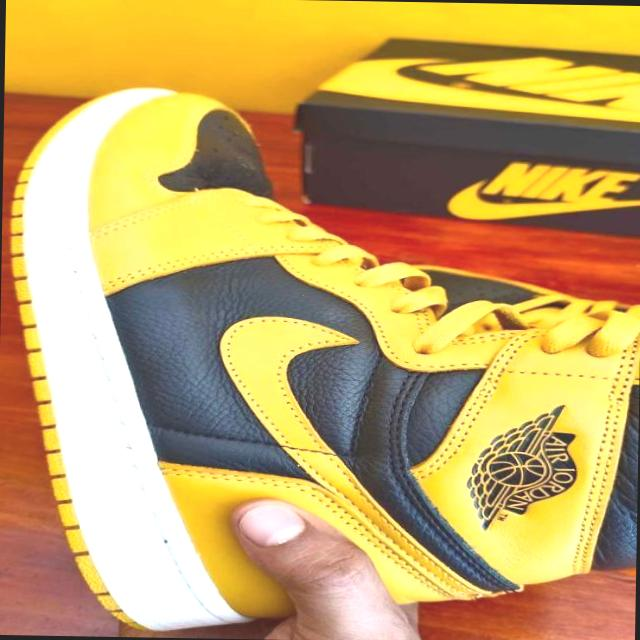nike_original_jordan: (1, 82, 640, 640)
